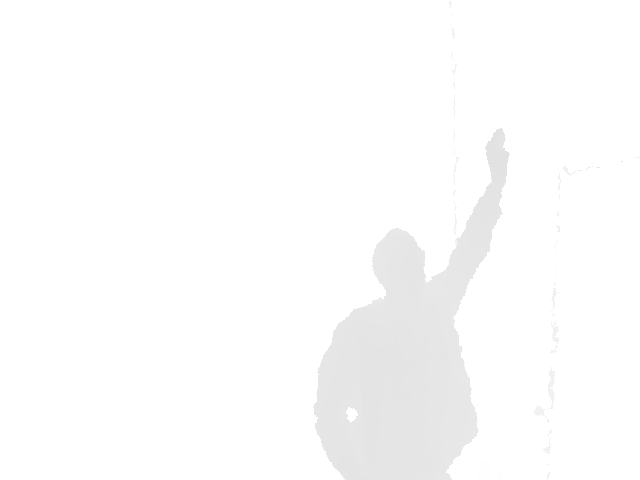hand: (484, 126, 513, 186)
head: (371, 227, 427, 289)
person: (312, 126, 512, 479)
